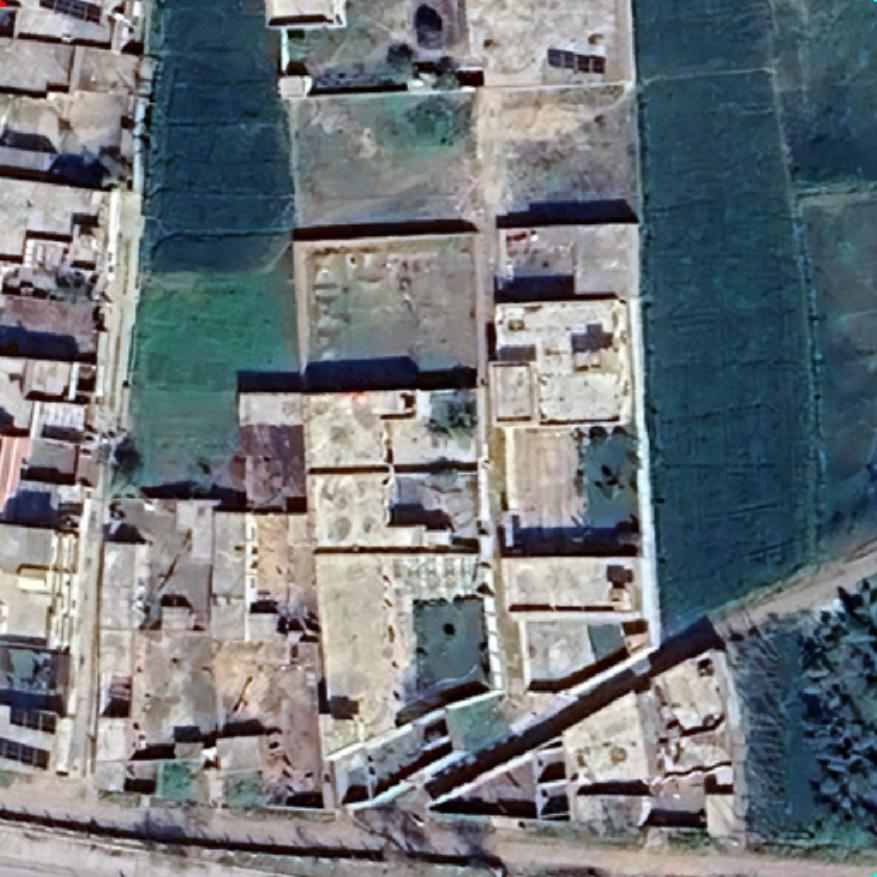Solarpanel: (6, 703, 60, 735), (0, 737, 50, 771), (547, 48, 605, 76), (38, 1, 101, 26)
